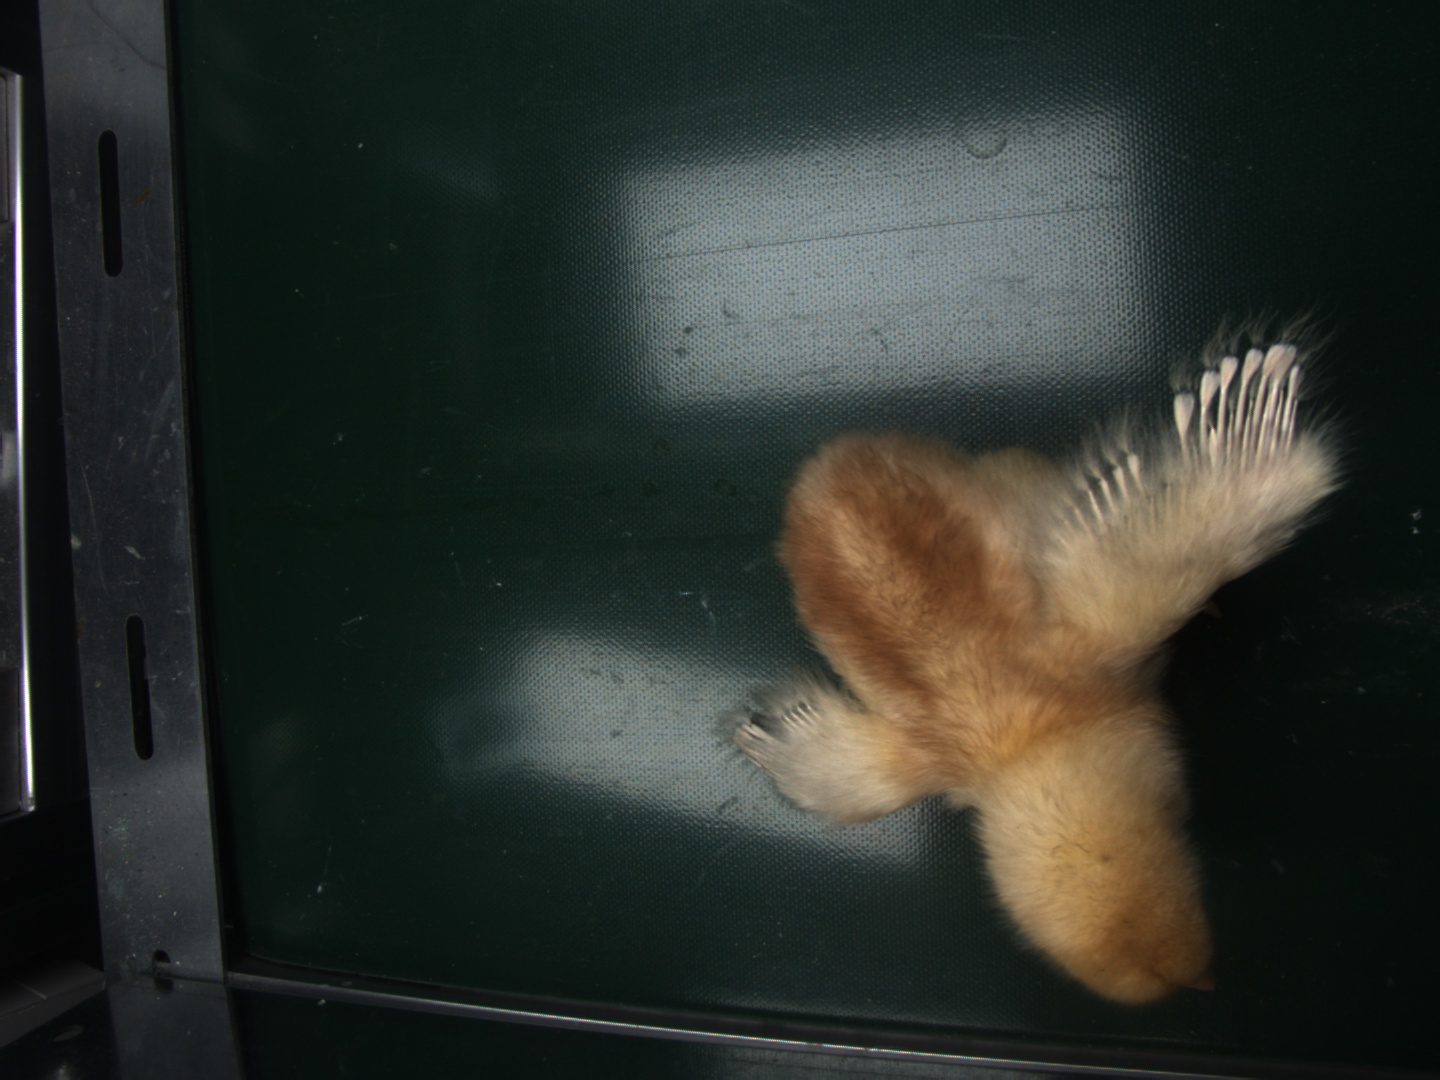female: (1192, 341, 1299, 449)
